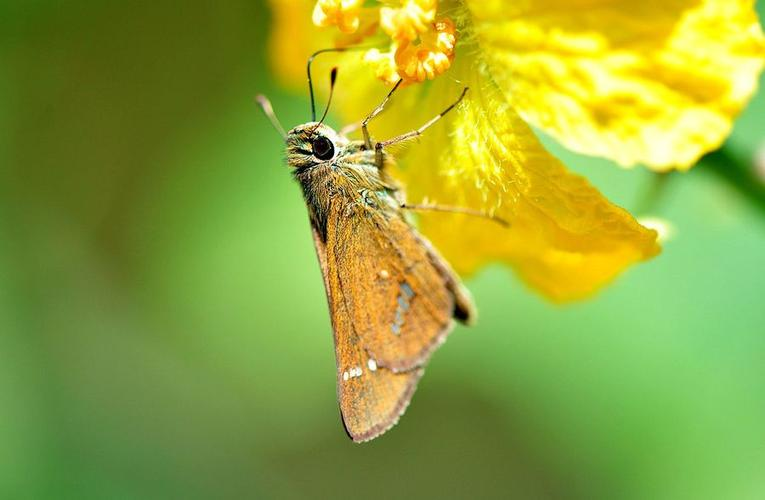Hesperiidae: (253, 36, 491, 449)
